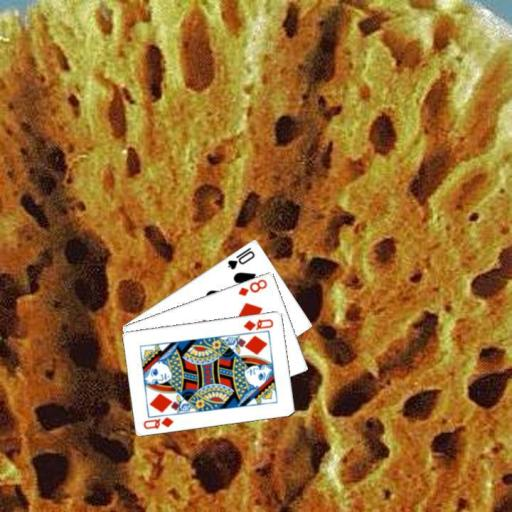10S: (224, 244, 257, 271)
8D: (235, 276, 269, 297)
QD: (241, 315, 276, 332), (140, 413, 175, 430)
